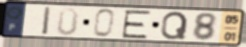0: (92, 8, 119, 39), (55, 6, 81, 37)
8: (192, 11, 218, 43)
E: (120, 9, 153, 40)
I: (41, 6, 53, 36)
Q: (160, 11, 190, 41)
